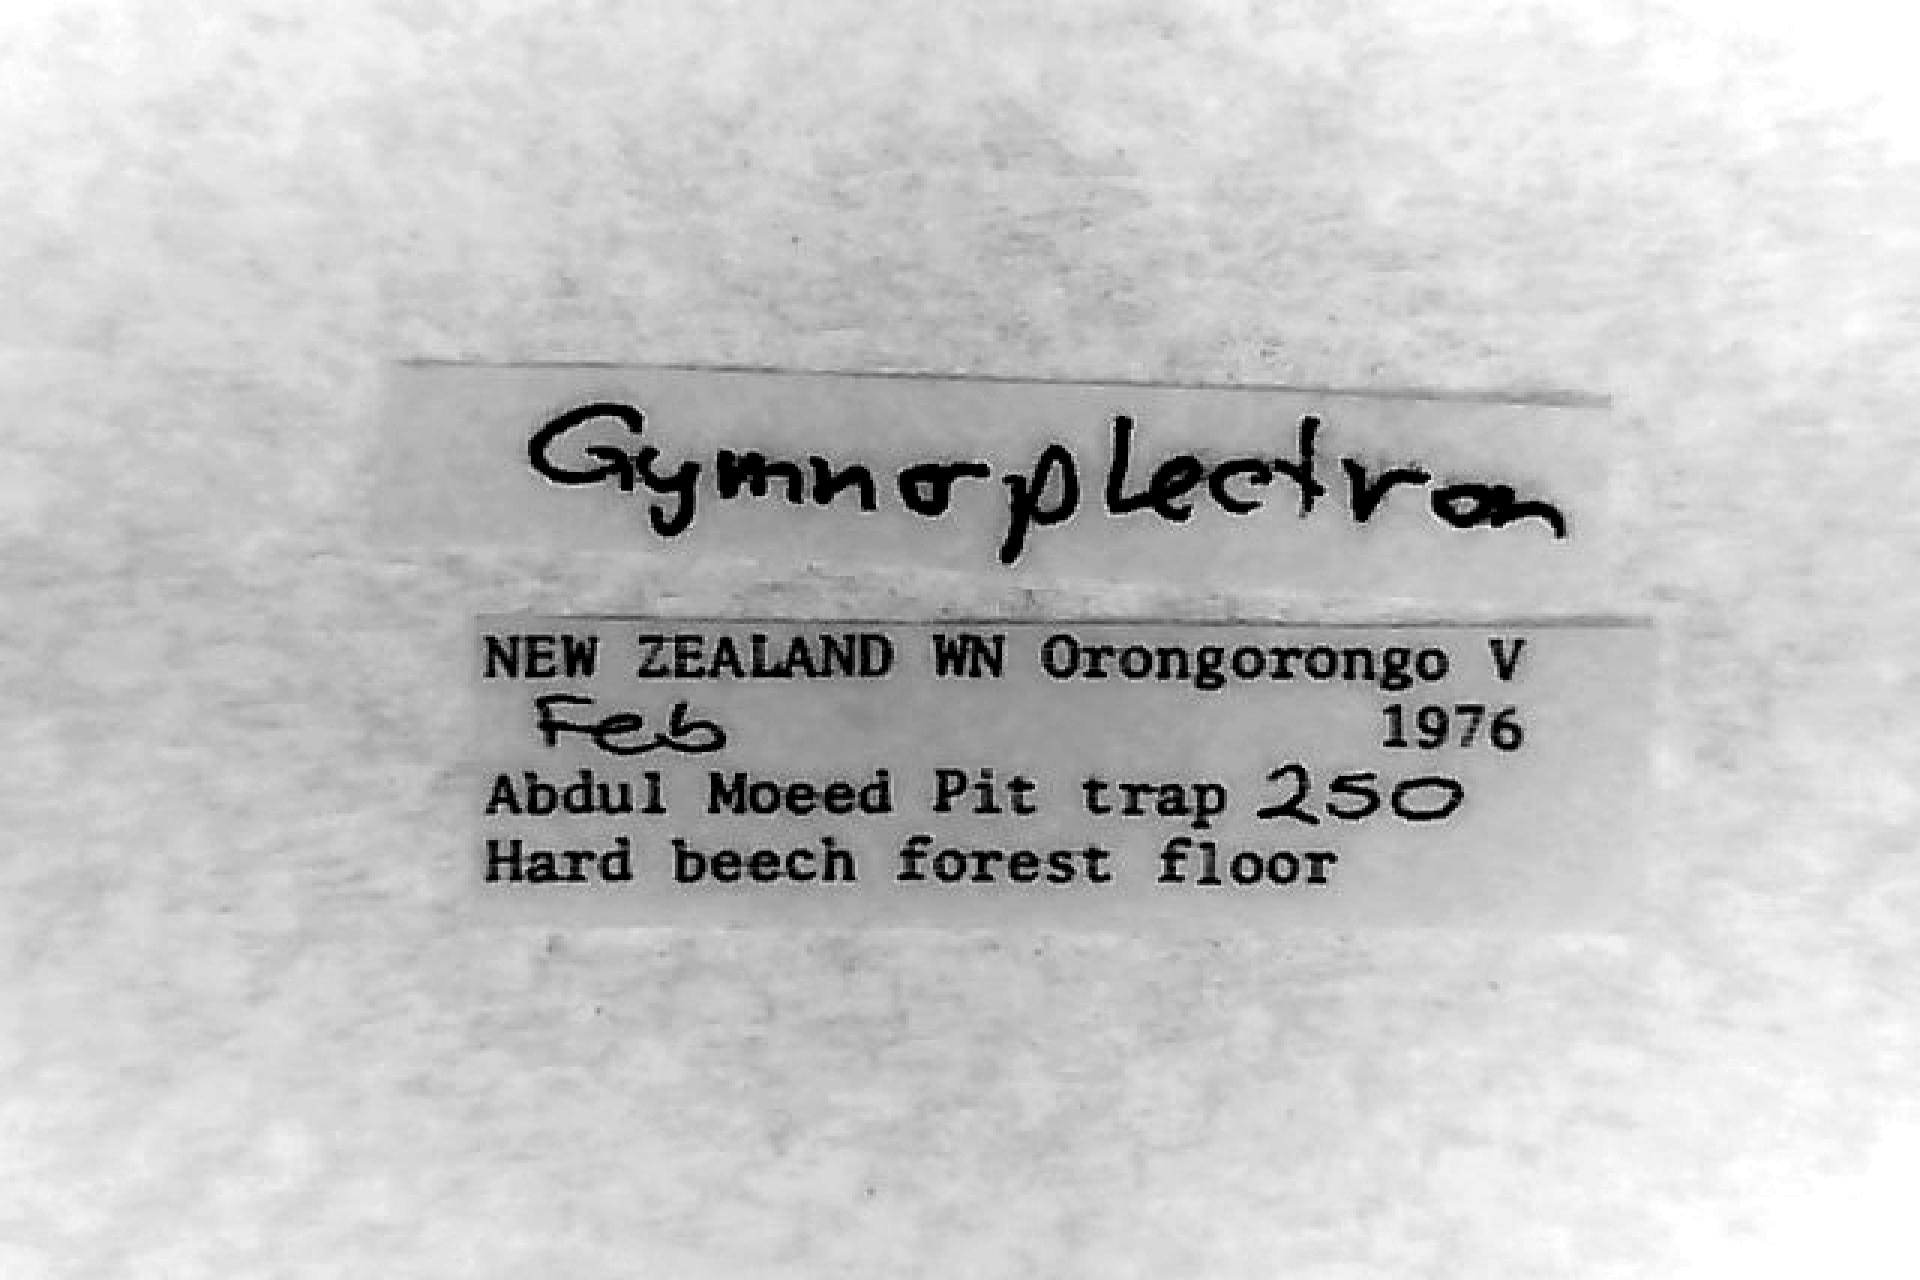hand_label: (375, 363, 1609, 602)
mixed_label: (476, 622, 1654, 925)
